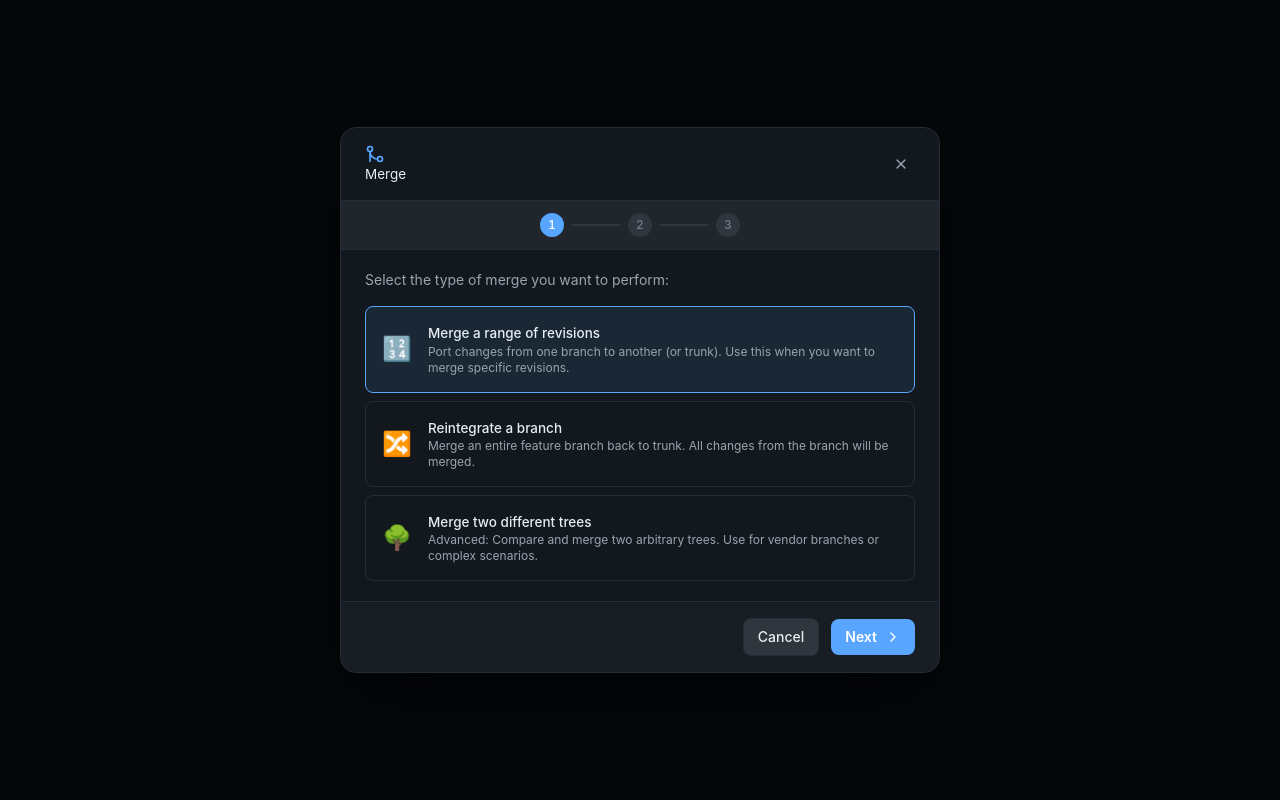
Scenario: MergeWizard › loads eligible mergeinfo revisions into the revision field
The image size is (1280, 800).
Click the button "Next" at (873, 637), box top-left (831, 619), bottom-right (915, 655)
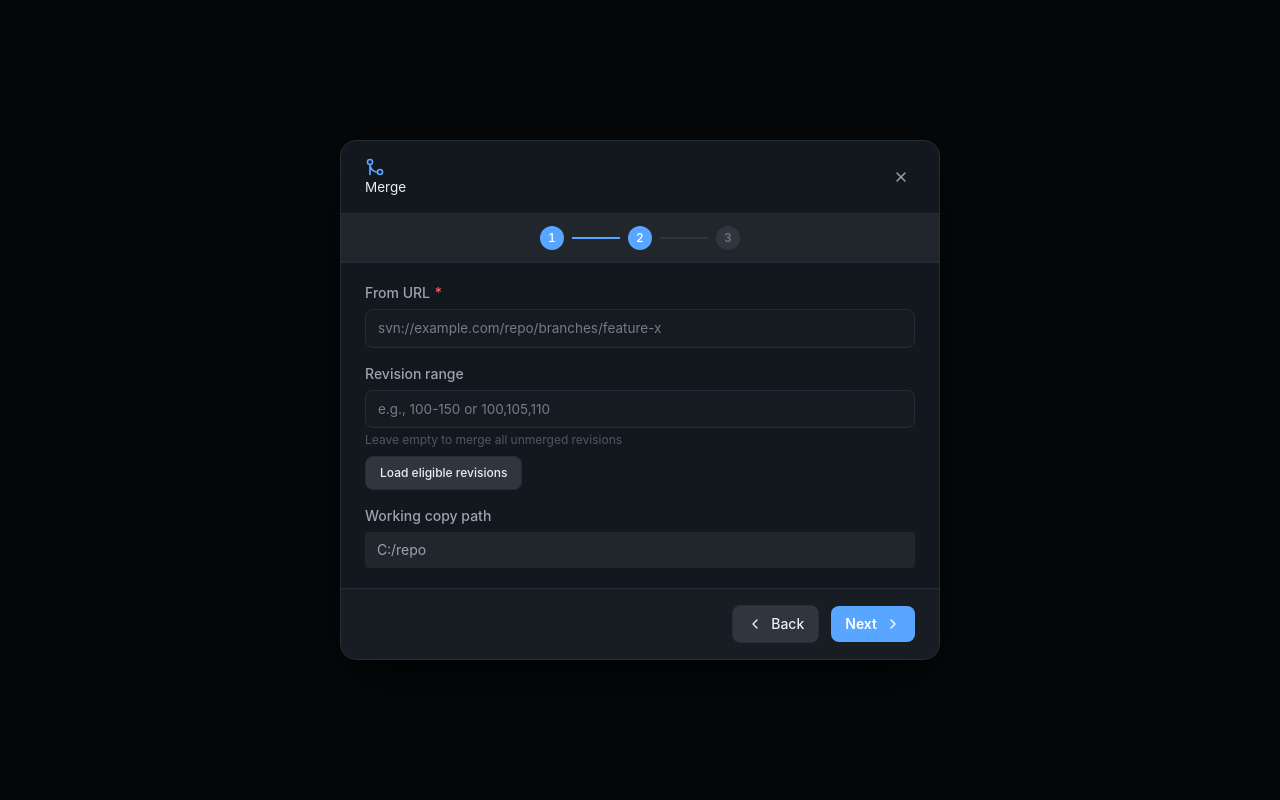
Type "https://svn.example.com/repo/branches/feature" into the field labelled "From URL *" at (640, 329), box top-left (365, 309), bottom-right (915, 348)
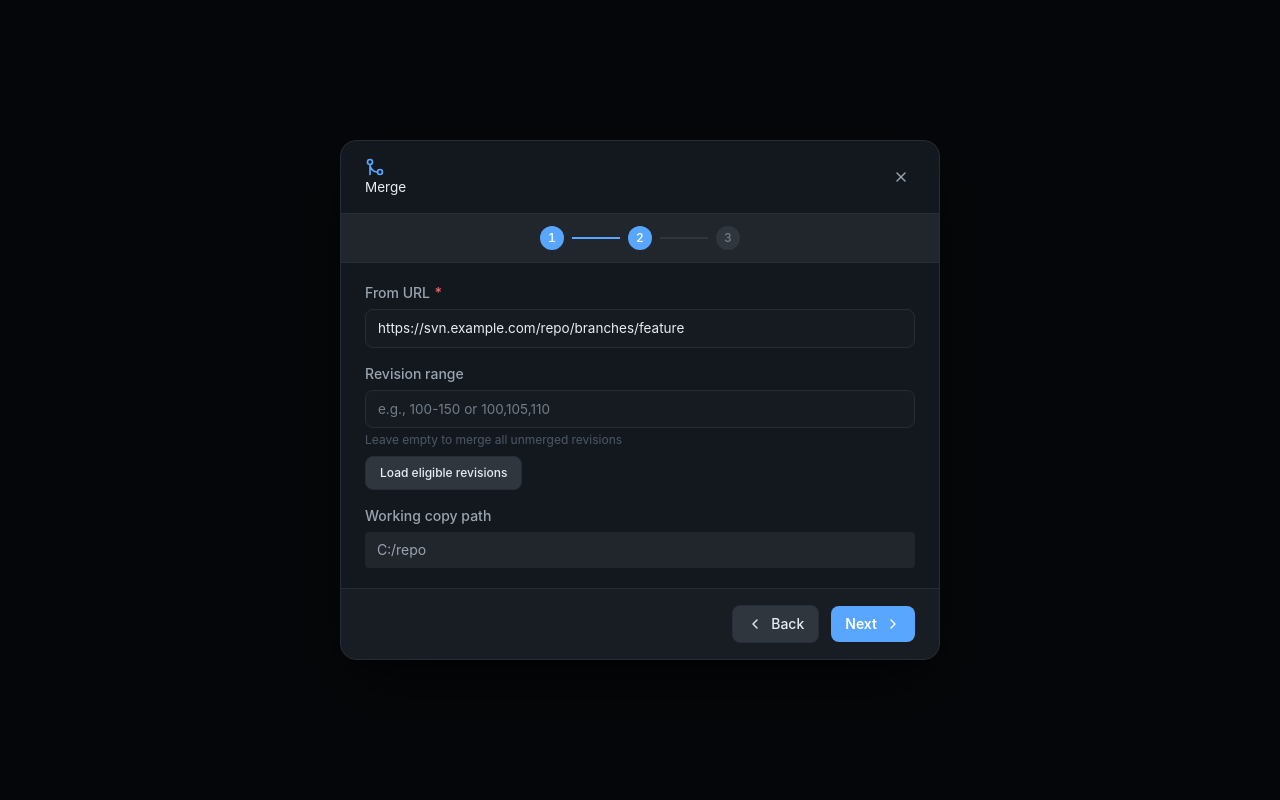
Click the button "Load eligible revisions" at (444, 473), box top-left (365, 456), bottom-right (522, 490)
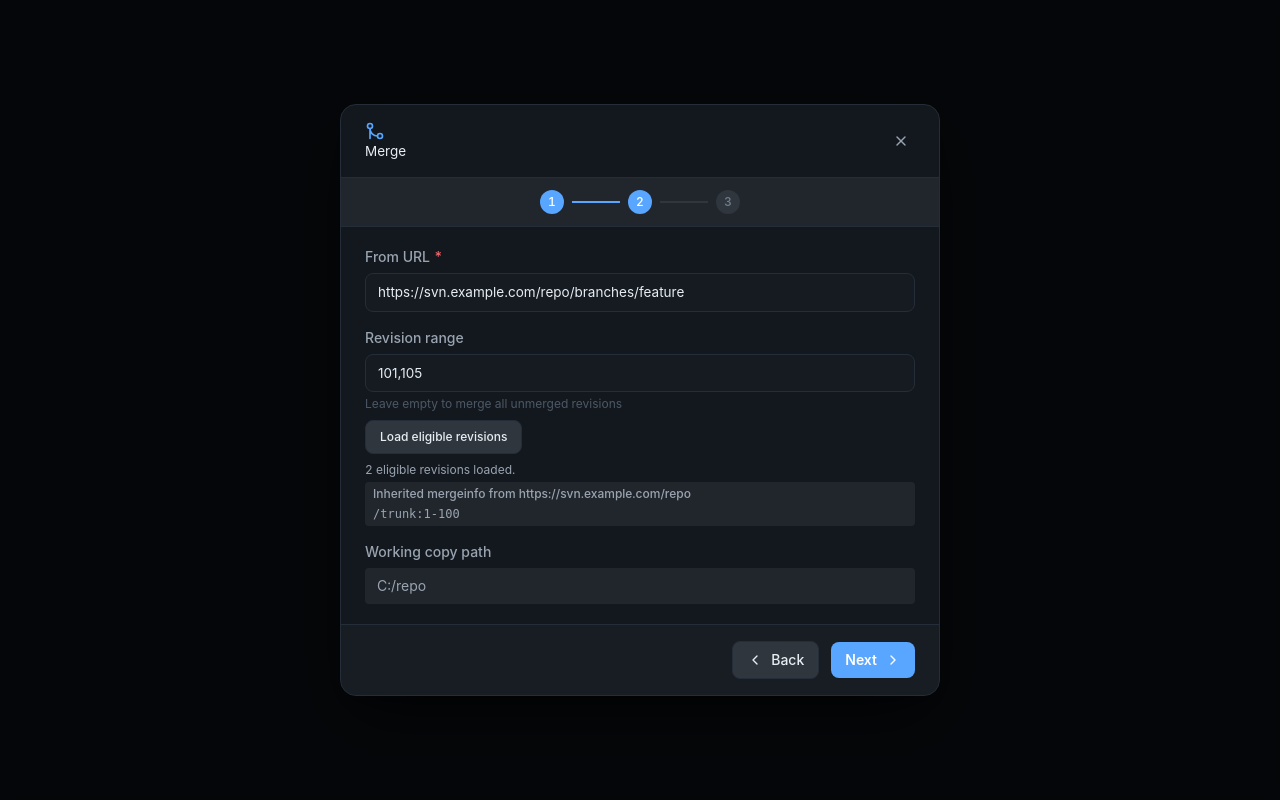
Check: the field labelled "Revision range" holds "101,105", box top-left (365, 354), bottom-right (915, 392)
Check: the text "2 eligible revisions loaded." is shown, box top-left (365, 462), bottom-right (515, 477)
Check: the text "Inherited mergeinfo from https://svn.example.com/repo" is shown, box top-left (373, 486), bottom-right (691, 501)
